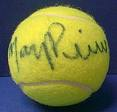tennis ball: (6, 4, 111, 108)
